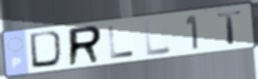1: (184, 13, 201, 51)
D: (28, 29, 68, 70)
L: (142, 18, 174, 58), (106, 25, 137, 60)
R: (67, 24, 104, 69)
T: (215, 9, 244, 46)
